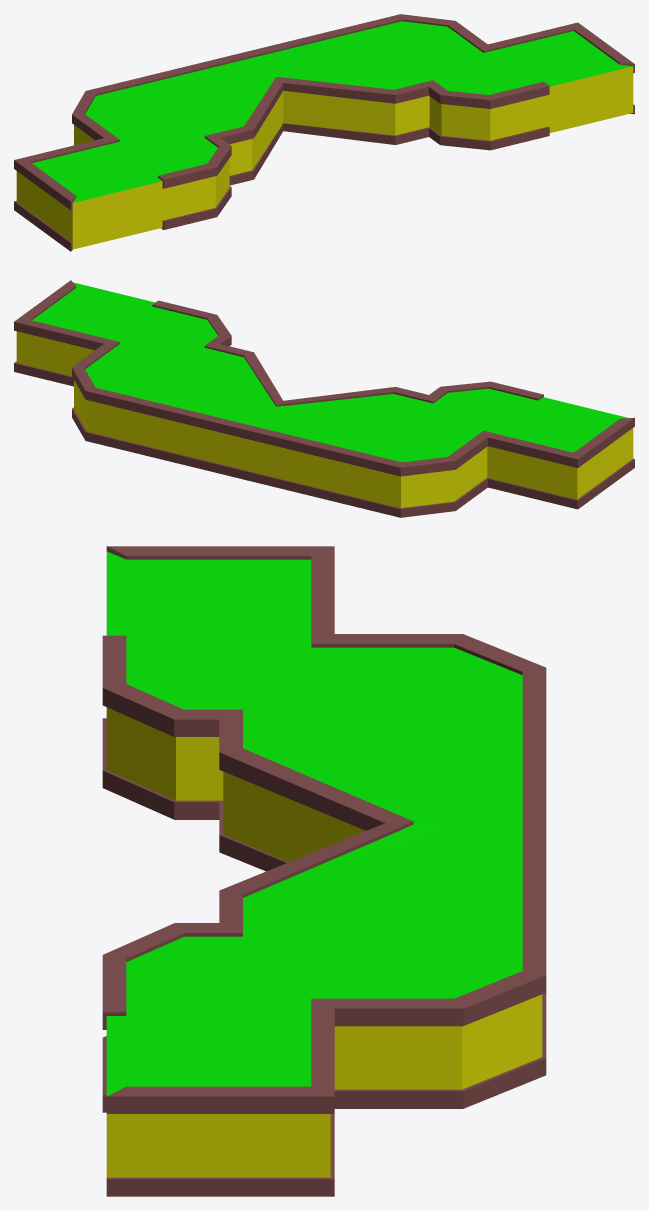
3 views of the same model, one above another, from view 1: azimuth 30°, elevation 25°; view 2: azimuth 150°, elevation 25°; view 3: azimuth 270°, elevation 25° (orthographic). The views are drawn at different scales.
Visible parts, largest first — view 1: polySurface204, polySurface206, polySurface200; view 2: polySurface204, polySurface200, polySurface206; view 3: polySurface204, polySurface200, polySurface206.
Part boxes in pixels (x1,y1,x2,y2): polySurface204: [32, 21, 632, 202]; polySurface206: [16, 66, 633, 249]; polySurface200: [14, 14, 634, 251]; polySurface204: [32, 282, 628, 462]; polySurface200: [14, 280, 634, 517]; polySurface206: [16, 331, 633, 508]; polySurface204: [106, 551, 522, 1096]; polySurface200: [102, 546, 546, 1196]; polySurface206: [106, 707, 542, 1177].
Size of the model in its own units: 110 by 9.3 by 37.31.
